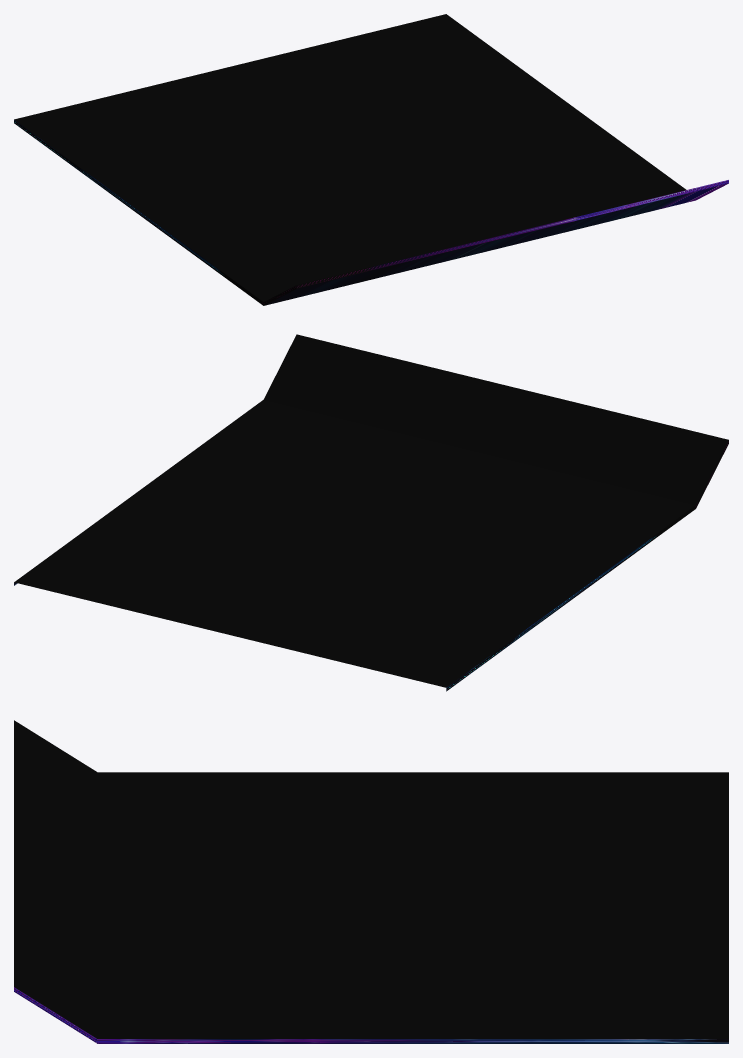
File: arena_update.dae
3 views of the same model, one above another, from view 1: azimuth 30°, elevation 25°; view 2: azimuth 150°, elevation 25°; view 3: azimuth 270°, elevation 25° (orthographic). The views are drawn at different scales.
Visible parts, largest first — view 1: Cube; view 2: Cube; view 3: Cube.
Part boxes in pixels (<box>): Cube: <box>14,14,728,305</box>; Cube: <box>14,334,728,691</box>; Cube: <box>14,720,728,1043</box>.
Bounding box in the file's own units: 30 × 33.97 × 2.98.
Materials: 1 (1 with a texture image).
